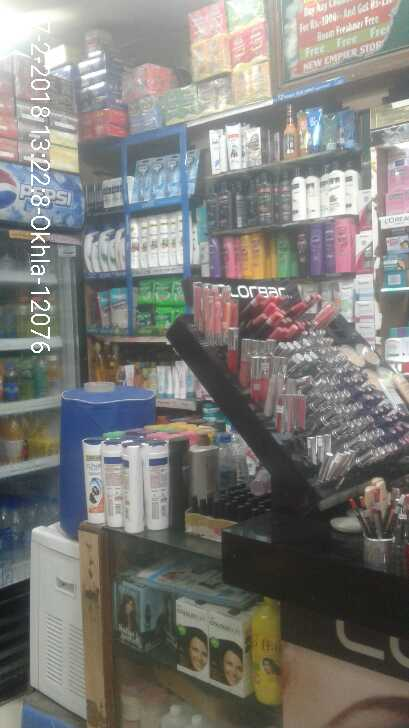venus: (179, 151, 199, 196), (150, 154, 165, 199), (134, 157, 150, 199), (165, 154, 179, 196)
